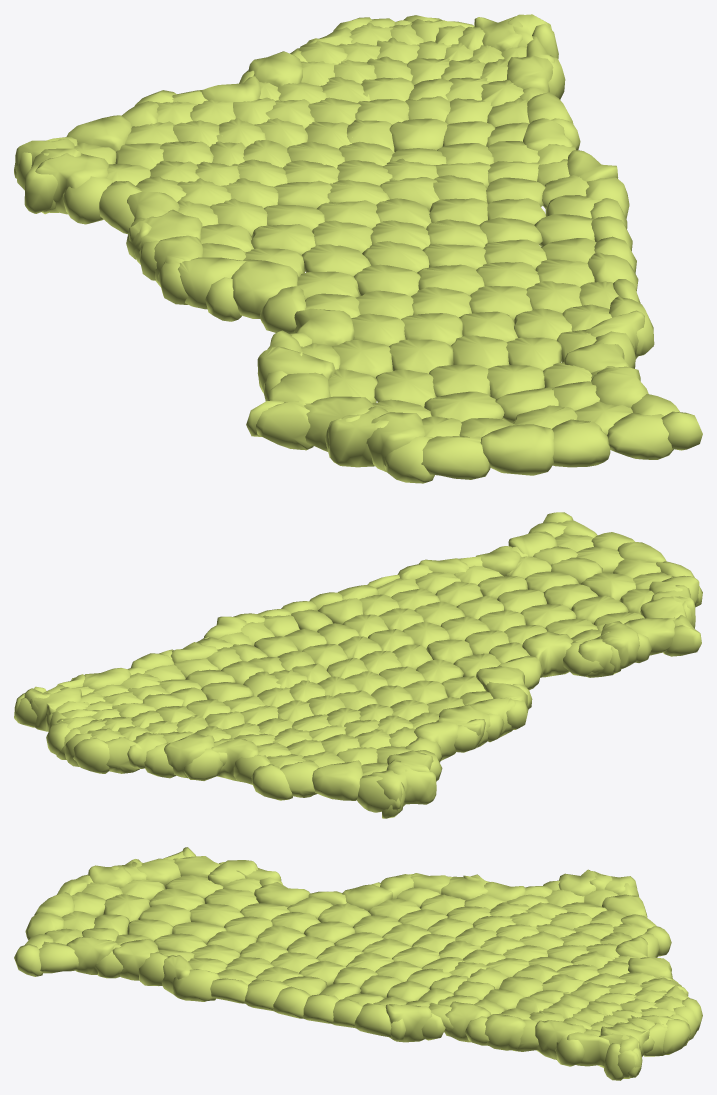
Rendered from Islands5.002_fog.fbx.
3 renders of one model, top to bottom at view 1: azimuth 30°, elevation 25°; view 2: azimuth 150°, elevation 25°; view 3: azimuth 270°, elevation 25°, orthographic. The views are drawn at different scales.
Visible parts, largest first — view 1: Island5.002_fog_cell.185, Island5.002_fog_cell.149, Island5.002_fog_cell.179, Island5.002_fog_cell.158, Island5.002_fog_cell.061, Island5.002_fog_cell.095, Island5.002_fog_cell.050, Island5.002_fog_cell.082, Island5.002_fog_cell.002, Island5.002_fog_cell.093, Island5.002_fog_cell.135, Island5.002_fog_cell.040 (+134 smaller); view 2: Island5.002_fog_cell.057, Island5.002_fog_cell.040, Island5.002_fog_cell.130, Island5.002_fog_cell.051, Island5.002_fog_cell.128, Island5.002_fog_cell.010, Island5.002_fog_cell.041, Island5.002_fog_cell.060, Island5.002_fog_cell.133, Island5.002_fog_cell.146, Island5.002_fog_cell.077, Island5.002_fog_cell.166 (+100 smaller); view 3: Island5.002_fog_cell.126, Island5.002_fog_cell.025, Island5.002_fog_cell.100, Island5.002_fog_cell.068, Island5.002_fog_cell.018, Island5.002_fog_cell.151, Island5.002_fog_cell.055, Island5.002_fog_cell.145, Island5.002_fog_cell.203, Island5.002_fog_cell.026, Island5.002_fog_cell.040, Island5.002_fog_cell.173 (+125 smaller).
Part boxes in pixels (x1,y1,x2,y2): Island5.002_fog_cell.185: (480, 424, 554, 475); Island5.002_fog_cell.149: (231, 259, 298, 318); Island5.002_fog_cell.179: (421, 436, 490, 479); Island5.002_fog_cell.158: (607, 413, 673, 459); Island5.002_fog_cell.061: (552, 419, 610, 467); Island5.002_fog_cell.095: (328, 406, 388, 467); Island5.002_fog_cell.050: (256, 401, 313, 450); Island5.002_fog_cell.082: (35, 153, 108, 214); Island5.002_fog_cell.002: (178, 257, 246, 309); Island5.002_fog_cell.093: (366, 412, 425, 472); Island5.002_fog_cell.135: (304, 396, 373, 451); Island5.002_fog_cell.040: (293, 308, 354, 346); Island5.002_fog_cell.057: (312, 760, 363, 800); Island5.002_fog_cell.040: (522, 631, 573, 677); Island5.002_fog_cell.130: (164, 733, 214, 778); Island5.002_fog_cell.051: (386, 759, 436, 804); Island5.002_fog_cell.128: (601, 621, 639, 668); Island5.002_fog_cell.010: (624, 617, 675, 655); Island5.002_fog_cell.041: (251, 763, 292, 800); Island5.002_fog_cell.060: (73, 737, 109, 773); Island5.002_fog_cell.133: (357, 774, 401, 812); Island5.002_fog_cell.146: (580, 572, 635, 600); Island5.002_fog_cell.077: (414, 720, 458, 760); Island5.002_fog_cell.166: (280, 760, 319, 797); Island5.002_fog_cell.126: (485, 1014, 525, 1050); Island5.002_fog_cell.025: (66, 937, 118, 974); Island5.002_fog_cell.100: (172, 969, 219, 1001); Island5.002_fog_cell.068: (112, 939, 158, 980); Island5.002_fog_cell.018: (385, 1004, 431, 1042); Island5.002_fog_cell.151: (535, 1020, 585, 1059); Island5.002_fog_cell.055: (39, 941, 78, 973); Island5.002_fog_cell.145: (444, 1001, 491, 1042); Island5.002_fog_cell.203: (354, 1003, 391, 1036); Island5.002_fog_cell.026: (244, 979, 289, 1010); Island5.002_fog_cell.040: (254, 882, 309, 907); Island5.002_fog_cell.173: (190, 903, 244, 927).
Bounding box in the file's own units: 144 × 12.46 × 199.
